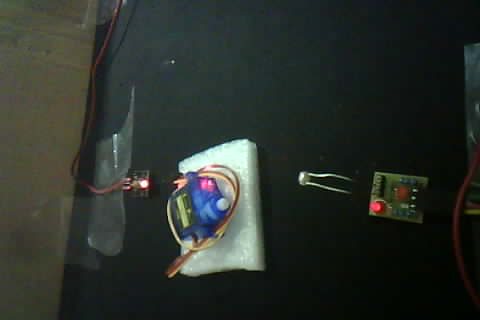motor: (163, 139, 266, 280)
